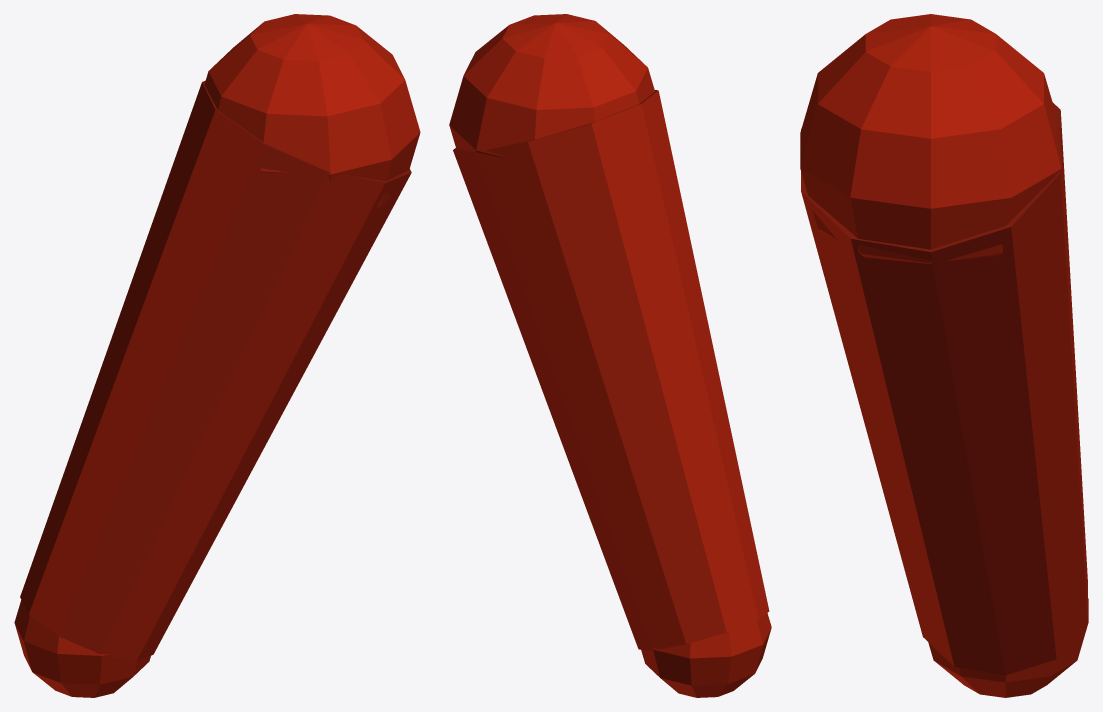
The model's file is SM_tyrannosaurus_hind_l_Lower.fbx.
3 views of the same model, side by side, from view 1: azimuth 30°, elevation 25°; view 2: azimuth 150°, elevation 25°; view 3: azimuth 270°, elevation 25° (orthographic). The views are drawn at different scales.
Visible parts, largest first — view 1: SM_tyrannosaurus_hind_l_Lower export; view 2: SM_tyrannosaurus_hind_l_Lower export; view 3: SM_tyrannosaurus_hind_l_Lower export.
Boxes of the visible parts, x1=… form: SM_tyrannosaurus_hind_l_Lower export: x1=14, y1=14, x2=420, y2=697; SM_tyrannosaurus_hind_l_Lower export: x1=449, y1=14, x2=771, y2=697; SM_tyrannosaurus_hind_l_Lower export: x1=800, y1=14, x2=1088, y2=697.
Size of the model in its own units: 117 by 69.28 by 205.
